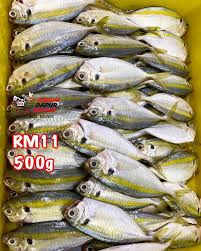Ikan Selar: (80, 145, 187, 200), (59, 199, 165, 243), (71, 94, 187, 129), (64, 54, 172, 90), (7, 20, 104, 58), (4, 197, 89, 230), (2, 61, 69, 97), (74, 7, 144, 35)
